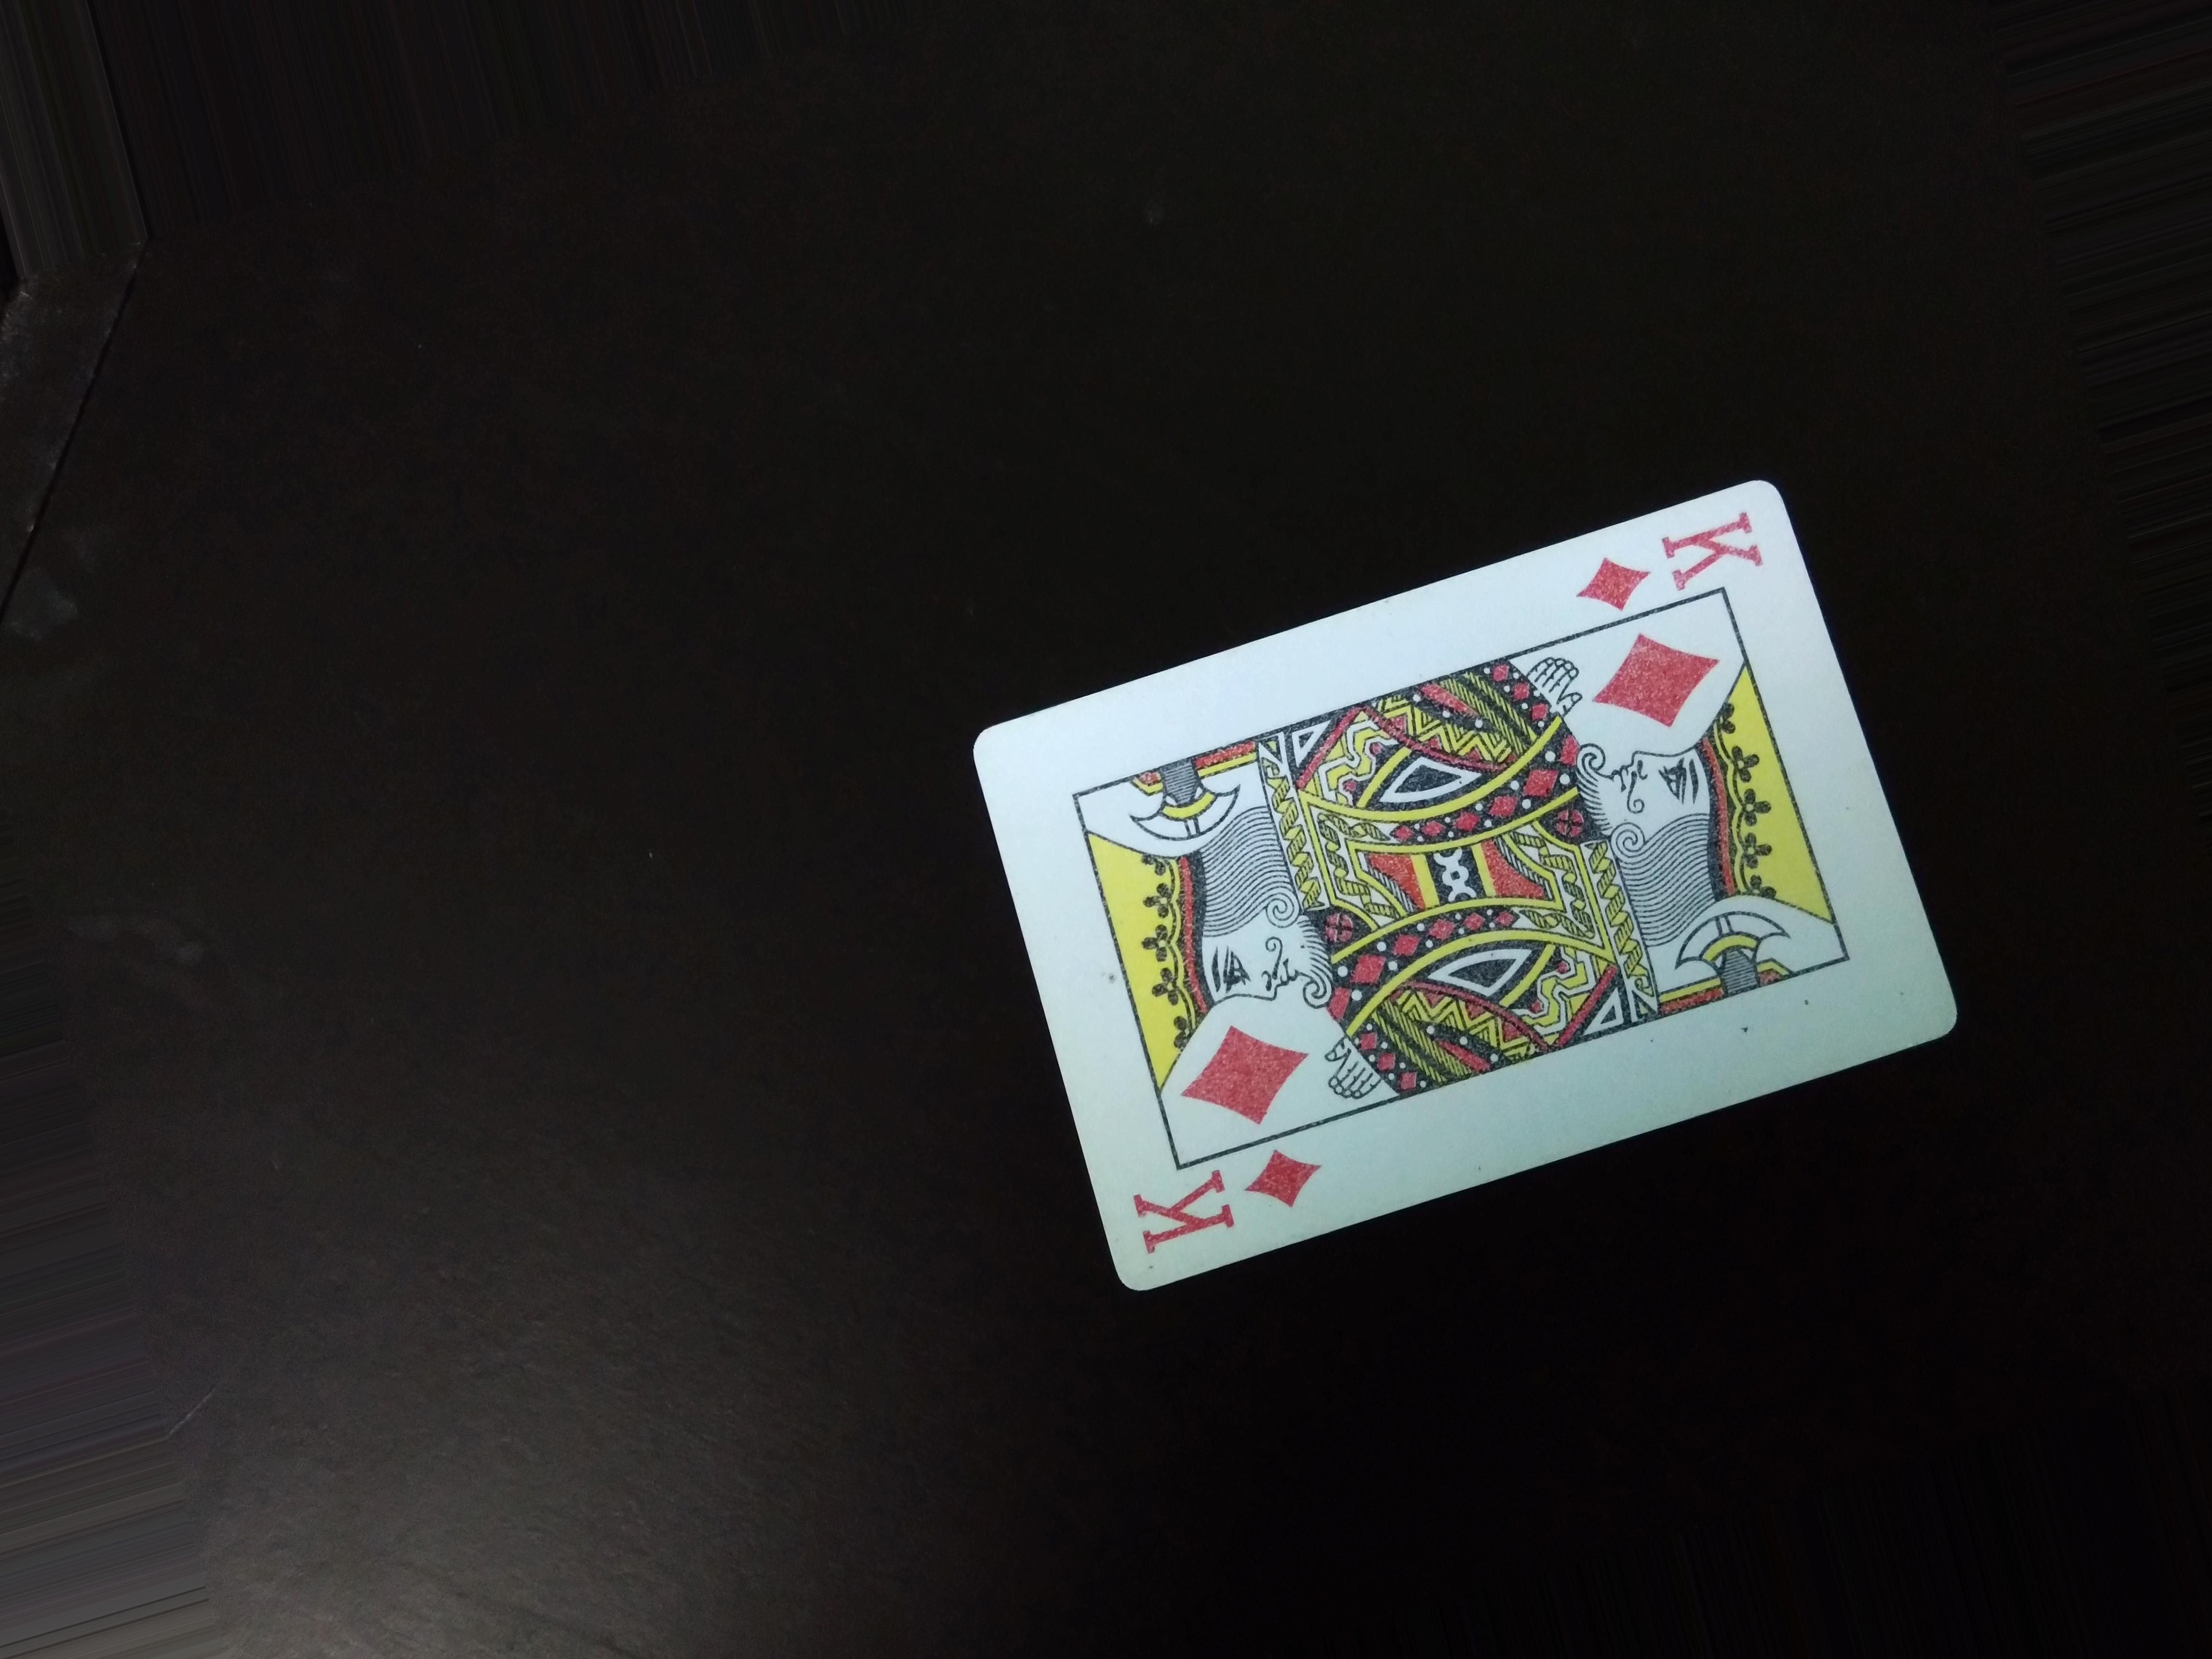KD: (1569, 502, 1763, 615)
